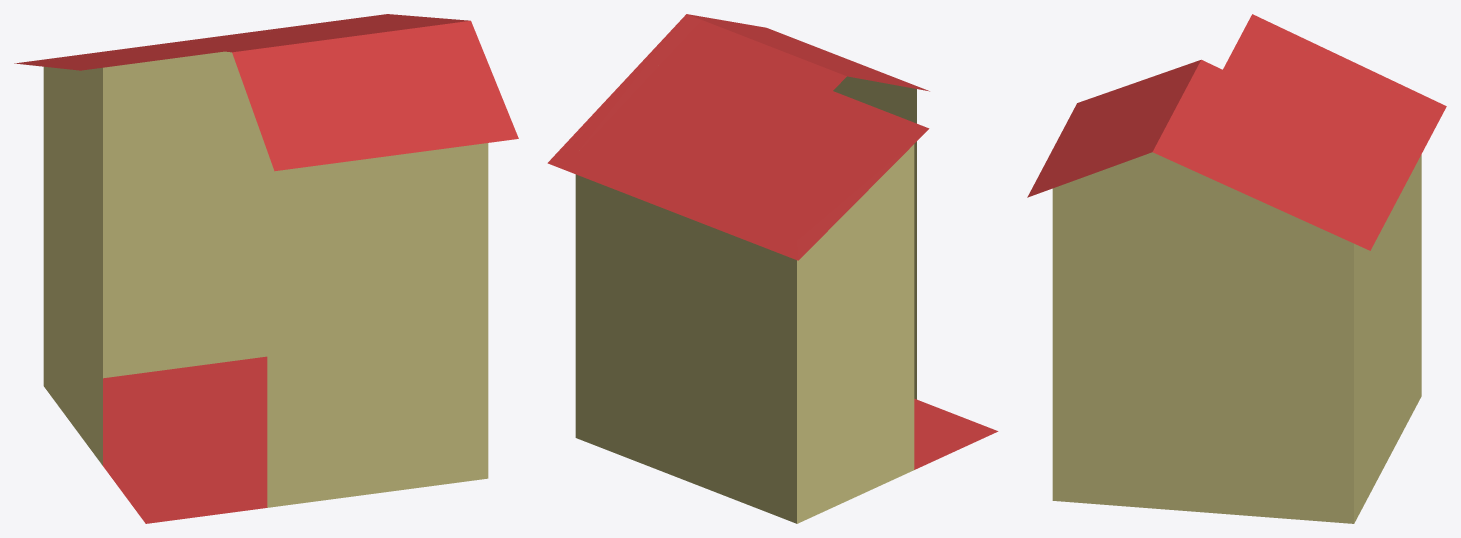
3 views of the same model, side by side, from view 1: azimuth 30°, elevation 25°; view 2: azimuth 150°, elevation 25°; view 3: azimuth 270°, elevation 25° (orthographic). The views are drawn at different scales.
Size of the model in its own units: 9.29 by 9.92 by 9.52.
